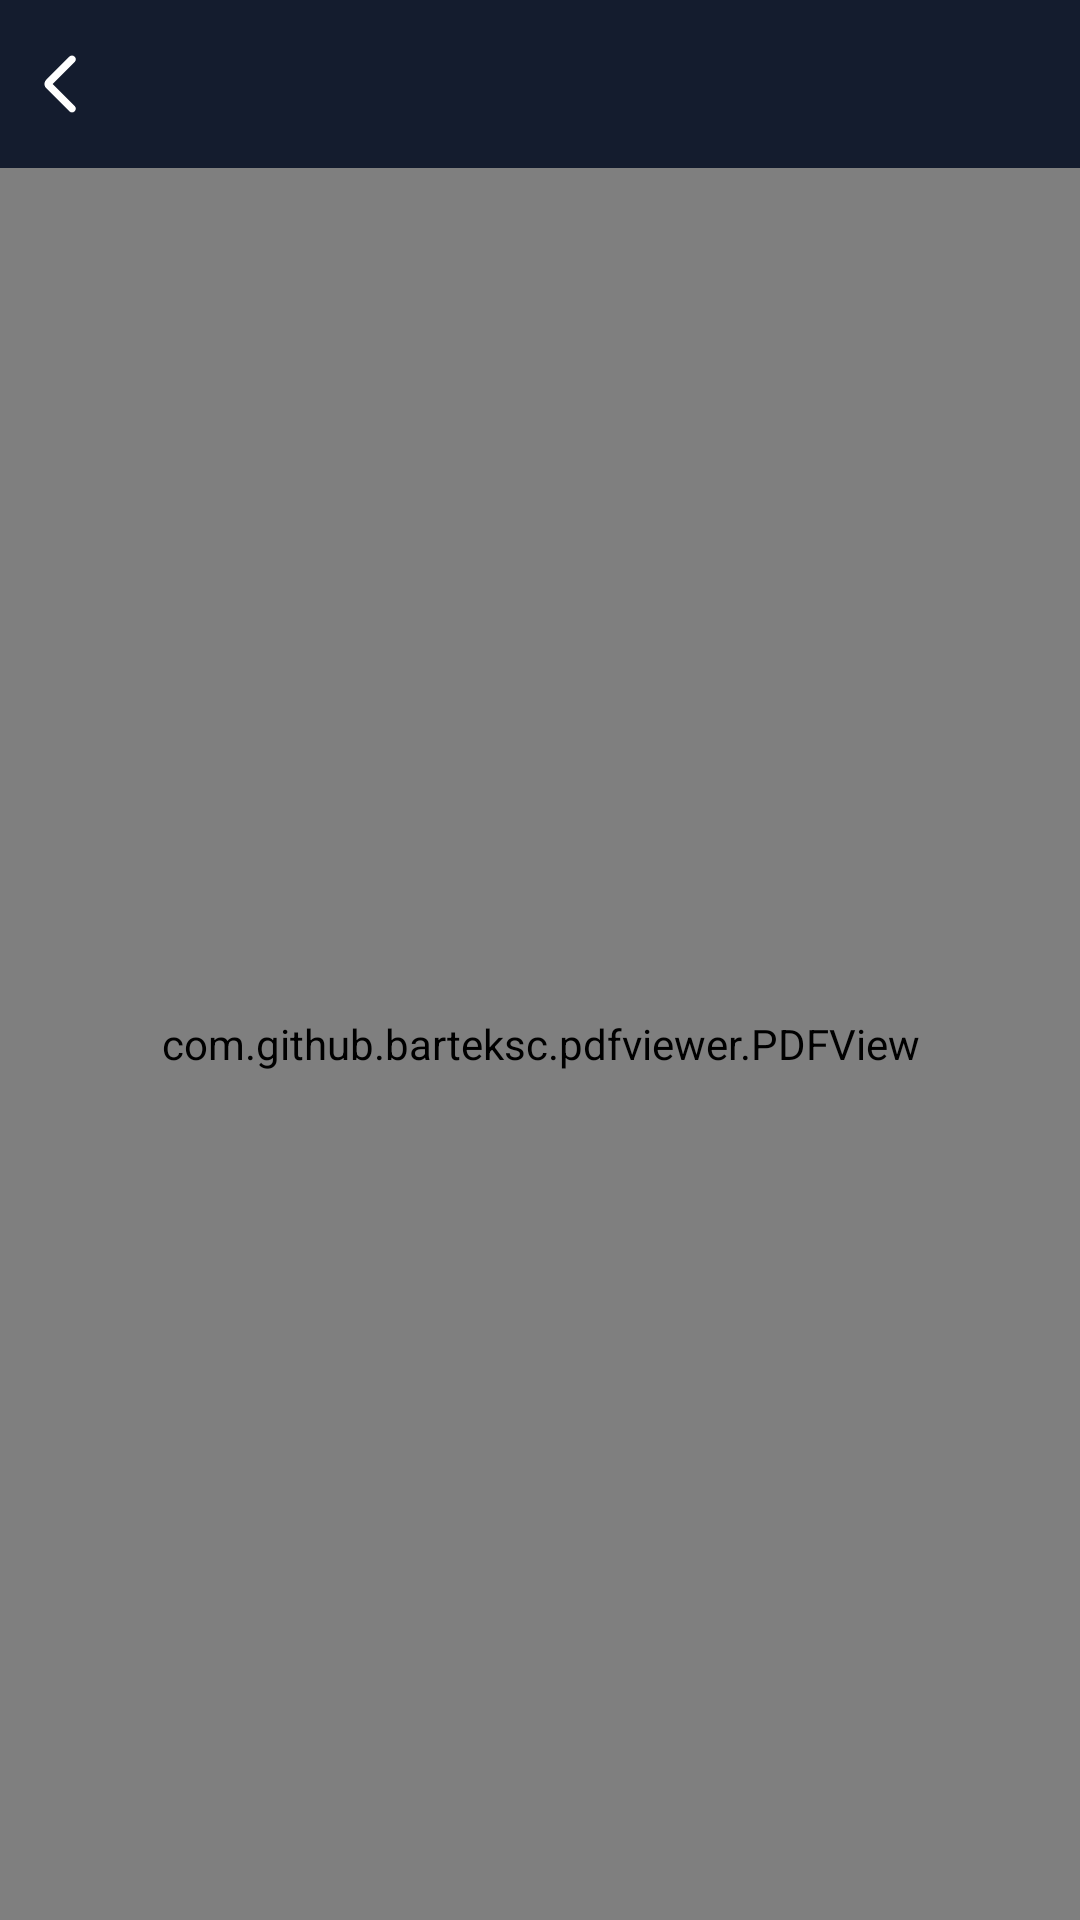

Where to tap for icons on this 1080px×1920px app screen, as [x,y]:
back: [60,84]
